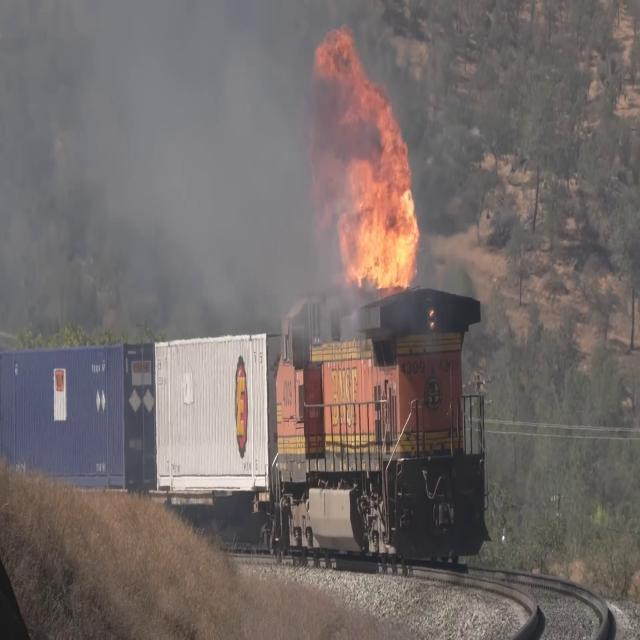Fire: (322, 20, 417, 283)
Smoke: (107, 0, 287, 280)
